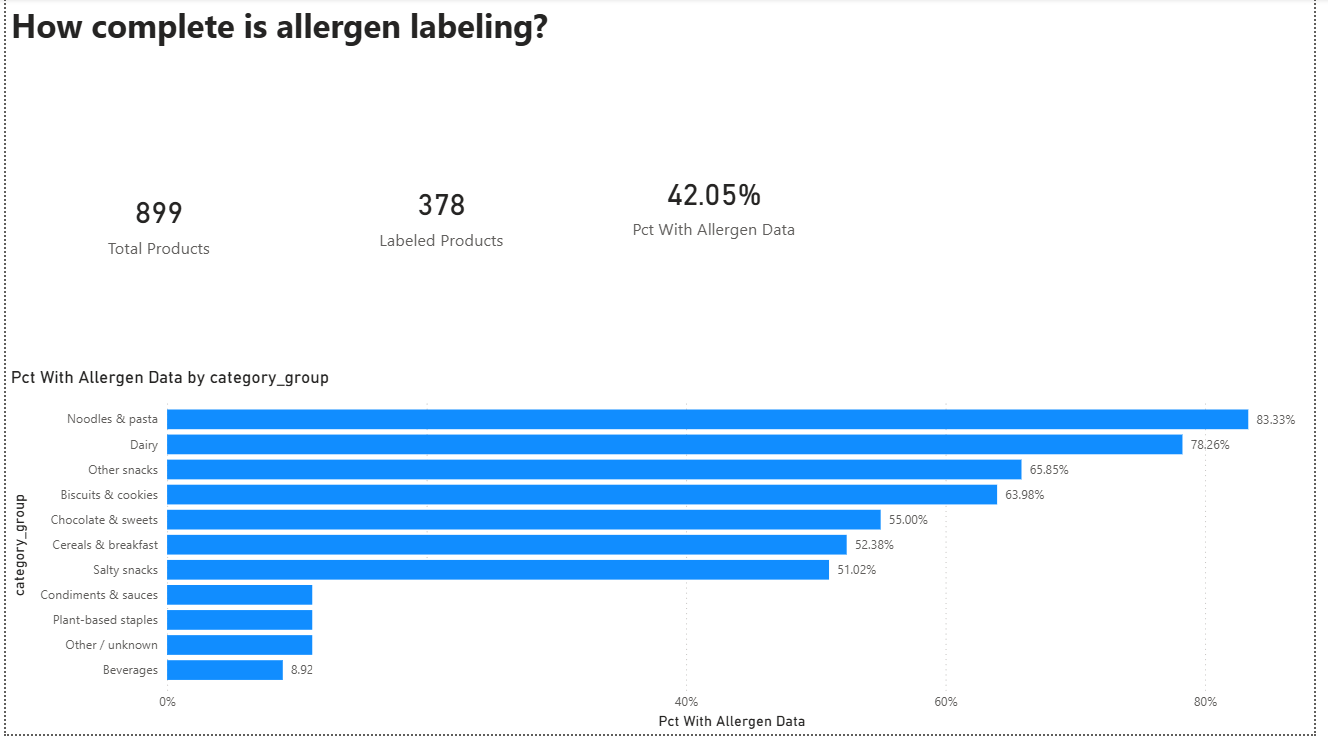

The page's visual inventory and layout, read from the dashboard file:
{"tool":"powerbi","page":{"name":"Page 1","canvas":[1280,720],"ordinal":0},"visuals":[{"type":"card","fields":{"Values":["products_clean.Total Products"]},"box":[0,79.5,299.6,280],"z":0},{"type":"card","fields":{"Values":["products_clean.Labeled Products"]},"box":[291,79.5,270.2,264.1],"z":1000},{"type":"card","fields":{"Values":["products_clean.Pct With Allergen Data"]},"box":[552.7,79.5,280,243.3],"z":2000},{"type":"barChart","fields":{"Category":["products_clean.category_group"],"Y":["products_clean.Pct With Allergen Data"]},"box":[0,360.7,1280.3,359.5],"z":3000},{"type":"textbox","box":[300,570,289,150],"z":5000},{"type":"textbox","box":[0,0,552.7,79.5],"z":6000}]}

Visuals, with their boxes in screenshot pixels (x1, y1, x2, y2), scaled from the page's 1280x720 canvas onto the 1328x736 screenshot:
card - products_clean.Total Products: l=0, t=81, r=311, b=367
card - products_clean.Labeled Products: l=302, t=81, r=582, b=351
card - products_clean.Pct With Allergen Data: l=573, t=81, r=864, b=330
barChart - products_clean.category_group x products_clean.Pct With Allergen Data: l=0, t=369, r=1327, b=735
textbox: l=311, t=583, r=611, b=735
textbox: l=0, t=0, r=573, b=81
